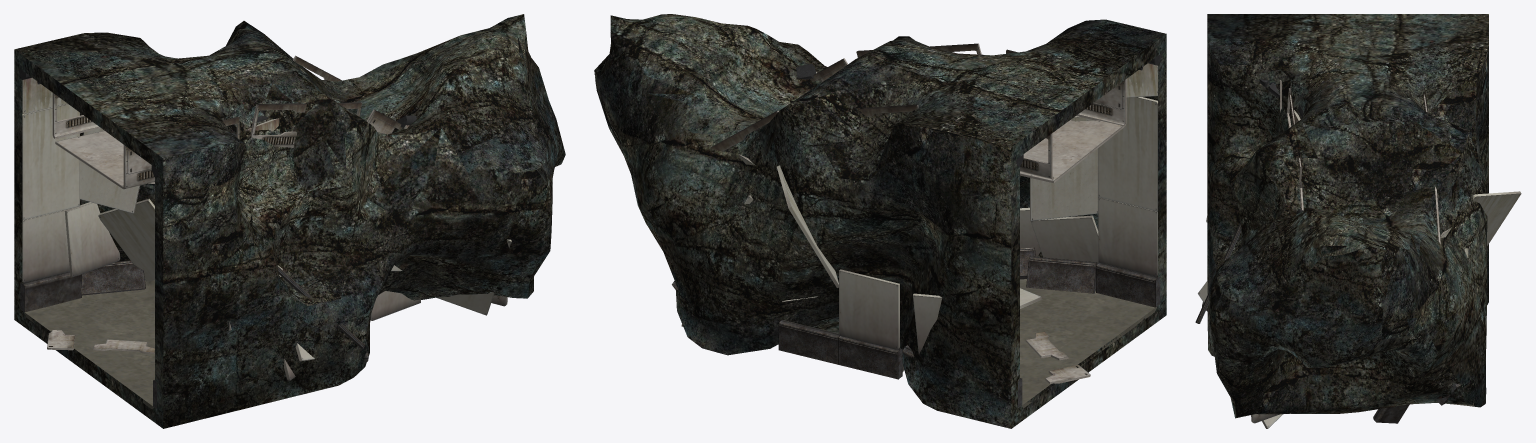
File: 02_06_corridor_cave_in_02.dae
3 renders of one model, left to right at view 1: azimuth 30°, elevation 25°; view 2: azimuth 150°, elevation 25°; view 3: azimuth 270°, elevation 25°, orthographic. The views are drawn at different scales.
Parts seen in each view (by area): view 1: rock__2_, walls__2_, floor__2_, ceiling__2_; view 2: rock__2_, walls__2_, floor__2_, ceiling__2_; view 3: rock__2_, walls__2_, ceiling__2_.
Boxes of the visible parts, x1,y1,x2,y2 form: rock__2_: [14, 14, 565, 428]; walls__2_: [19, 68, 511, 408]; floor__2_: [24, 280, 154, 409]; ceiling__2_: [47, 55, 402, 353]; rock__2_: [594, 14, 1166, 428]; walls__2_: [672, 53, 1161, 407]; floor__2_: [681, 279, 1156, 408]; ceiling__2_: [710, 43, 1126, 383]; rock__2_: [1207, 14, 1488, 418]; walls__2_: [1195, 79, 1521, 428]; ceiling__2_: [1280, 80, 1441, 247].
Size of the model in its own units: 8.43 by 4.63 by 5.21.
